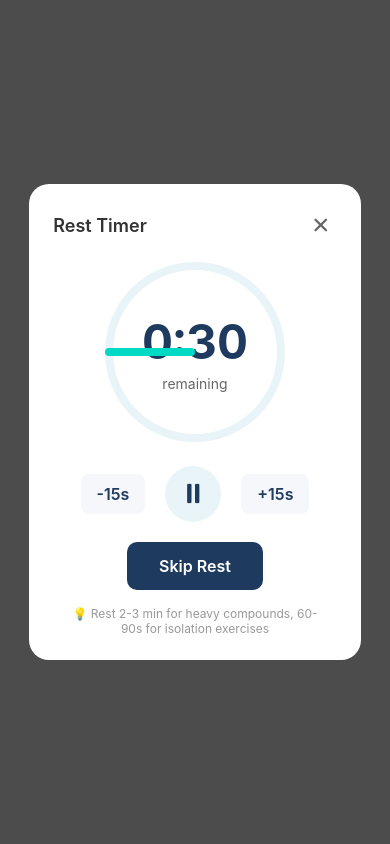
Test: controls › +15s button increases the displayed time by 15 seconds
This screenshot has width=390, height=844.
Check: the text "0:30" is shown, box [142,312,248,371]
Click the text "+15s" at [275, 494], box [257,484,293,504]
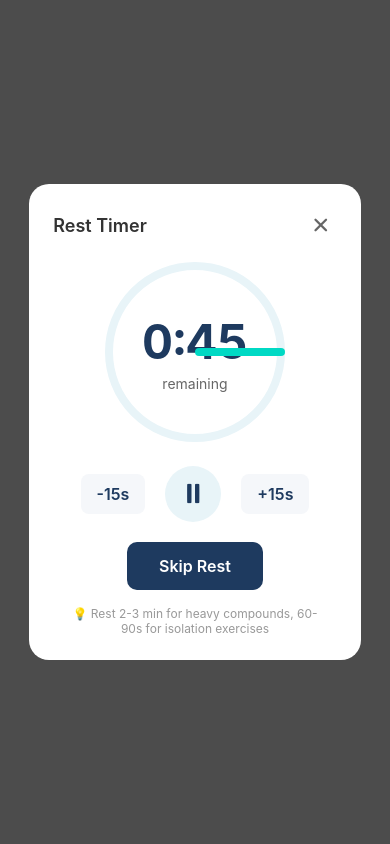
Check: the text "0:45" is shown, box [142,312,248,371]
